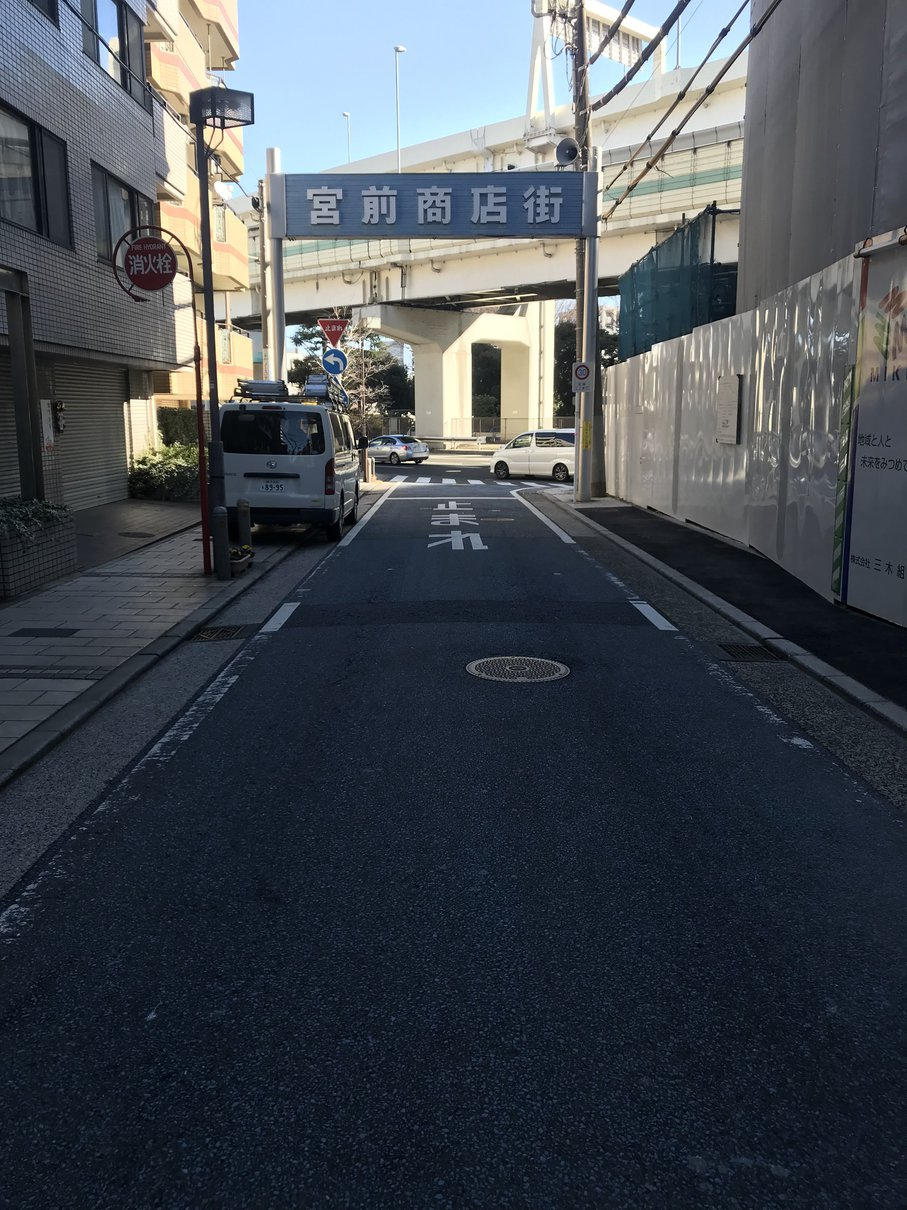stop_sign: (317, 316, 351, 348)
